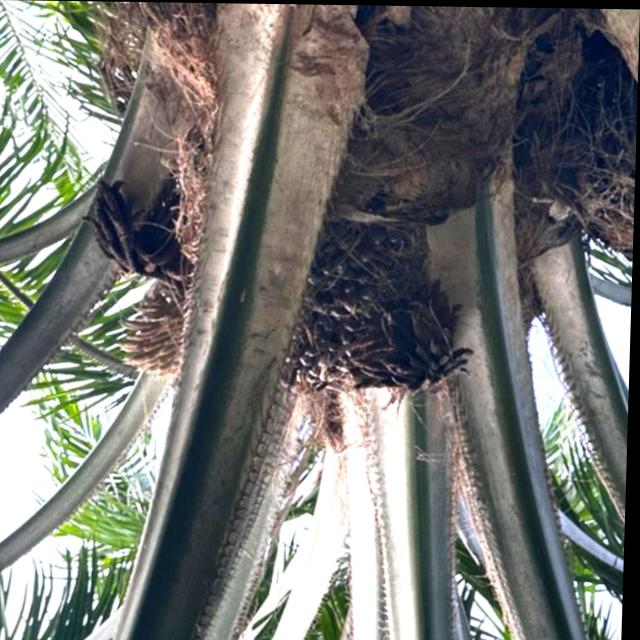ripe: (284, 207, 430, 401)
